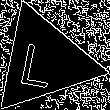L_N: (23, 34, 65, 89)
